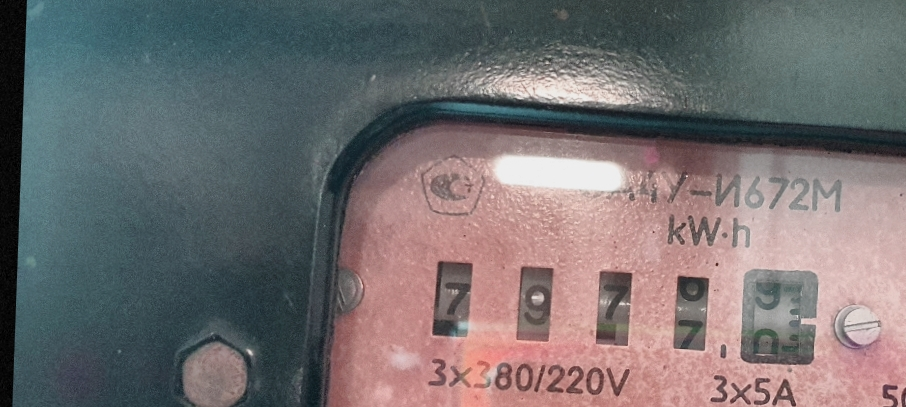0: (748, 322, 782, 362)
7: (598, 280, 630, 324), (440, 277, 471, 321), (673, 316, 705, 352)
9: (519, 281, 554, 327), (752, 275, 784, 311)
screen: (411, 237, 843, 388)
